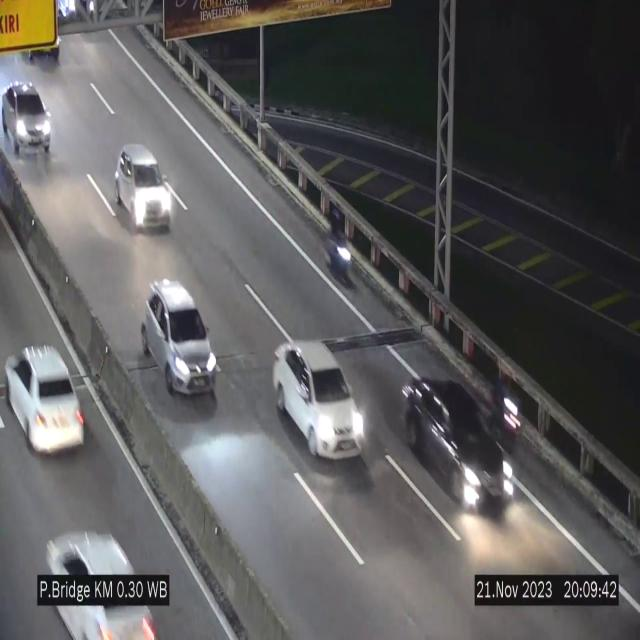Car: (39, 506, 166, 640), (402, 376, 516, 522), (3, 318, 91, 470), (272, 341, 366, 458), (141, 278, 217, 398), (114, 144, 172, 229), (0, 81, 56, 156)
Motorcycle: (324, 209, 352, 291), (496, 381, 524, 457)
